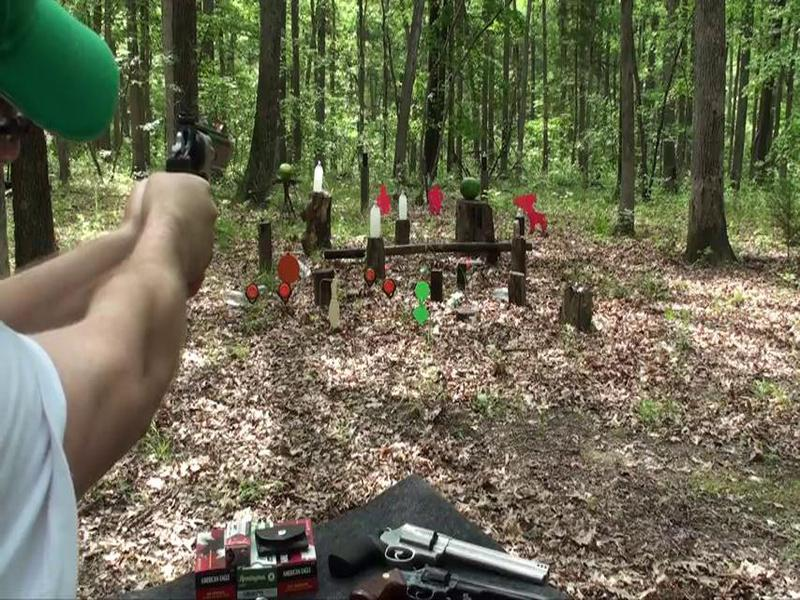Revolver: (151, 93, 240, 223)
